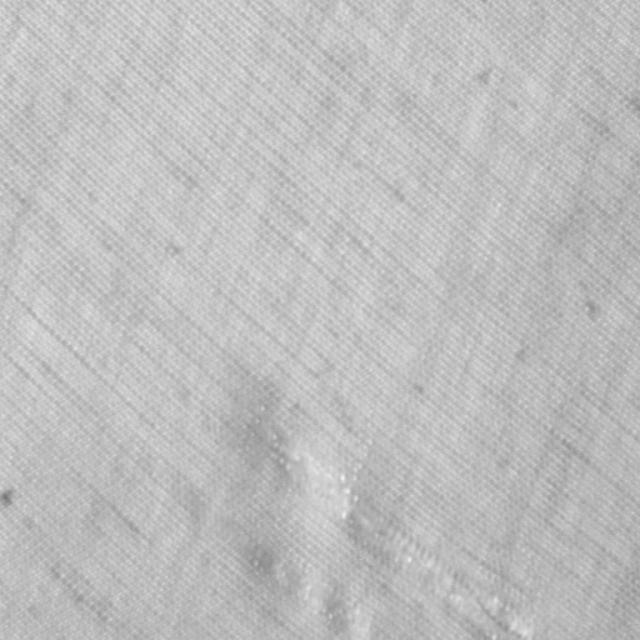thread error: (246, 391, 529, 639)
